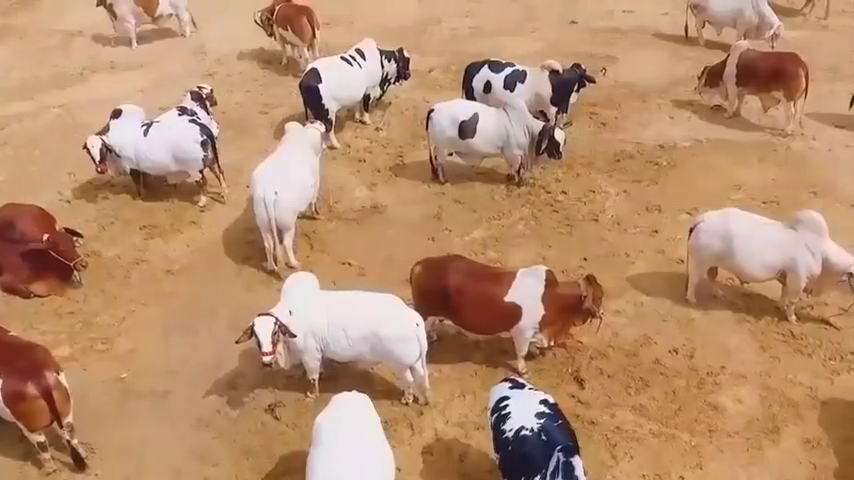bo: (235, 262, 435, 417), (413, 240, 615, 379), (674, 192, 849, 335), (415, 88, 569, 206), (468, 363, 602, 480), (82, 107, 224, 217), (245, 106, 336, 272), (292, 23, 415, 136), (453, 38, 598, 132), (684, 40, 817, 142), (2, 322, 88, 472), (299, 382, 408, 480), (1, 199, 90, 307), (88, 1, 207, 57), (244, 3, 332, 77), (677, 1, 788, 59), (164, 70, 231, 138)
